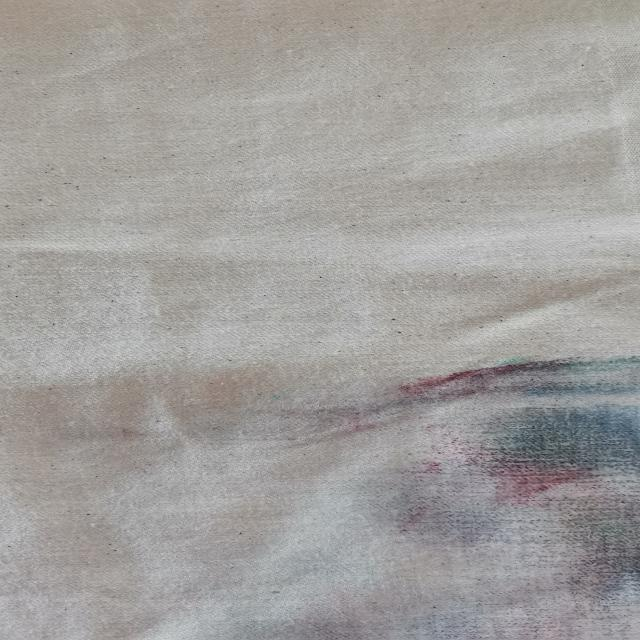taaaches: (239, 352, 640, 640)
